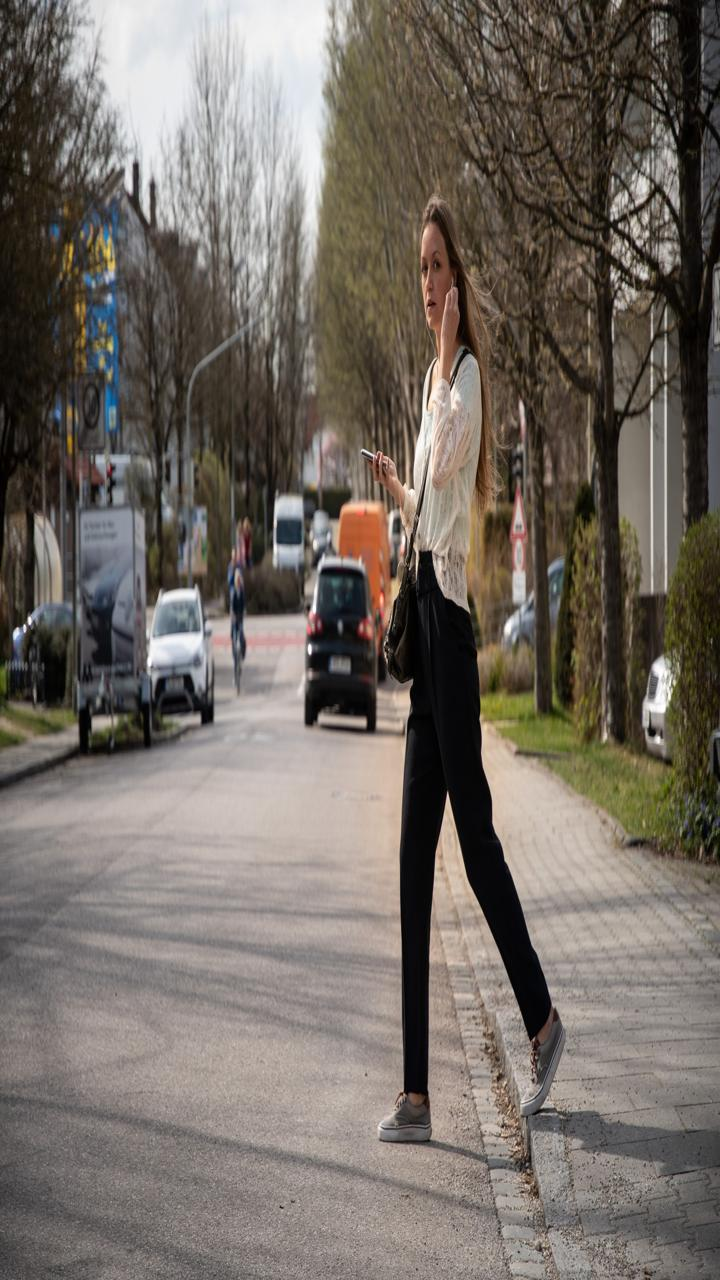pedestrian: (359, 171, 586, 1176), (295, 543, 388, 741), (145, 563, 238, 761), (310, 463, 403, 661)
